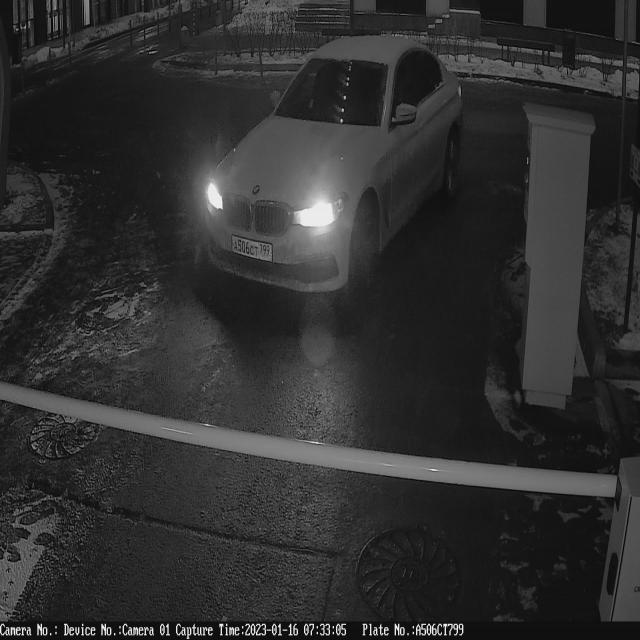car-plate-numbers: (231, 231, 276, 265)
